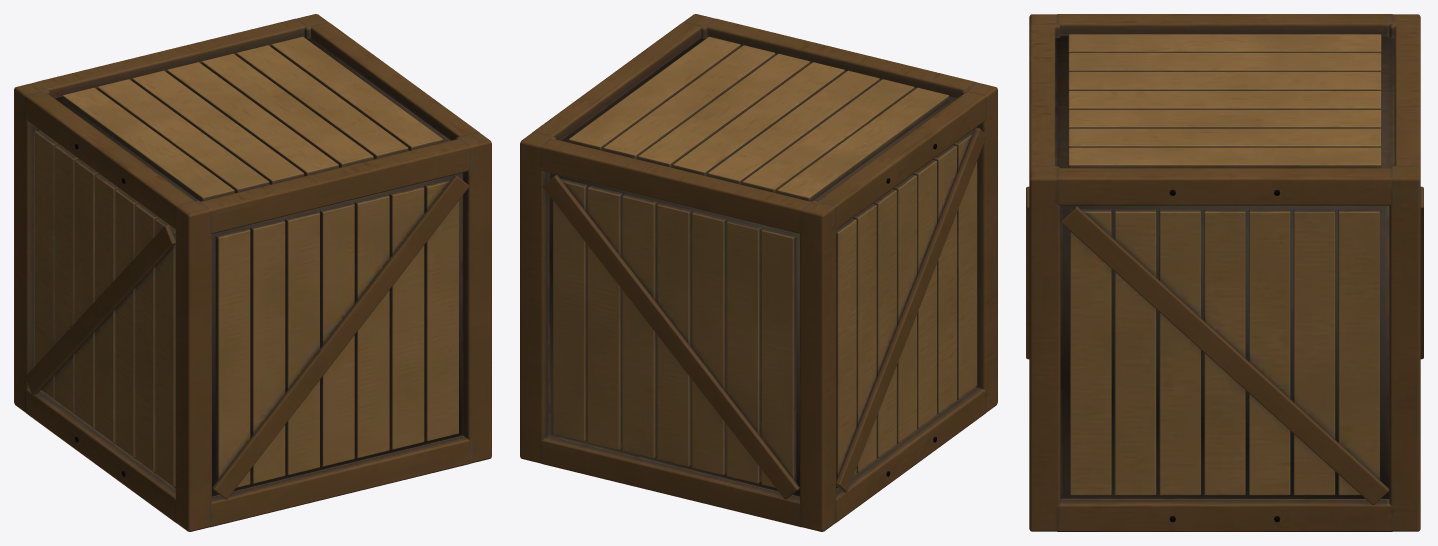
File: crate.glb
3 renders of one model, left to right at view 1: azimuth 30°, elevation 25°; view 2: azimuth 150°, elevation 25°; view 3: azimuth 270°, elevation 25°, orthographic. The views are drawn at different scales.
Visible parts, largest first — view 1: crate; view 2: crate; view 3: crate.
Part boxes in pixels (x1,y1,x2,y2): crate: (14,14,491,531); crate: (520,14,997,531); crate: (1026,14,1423,531).
Bounding box in the file's own units: 1.52 × 1.5 × 1.52.
Materials: 1 (1 with a texture image).
